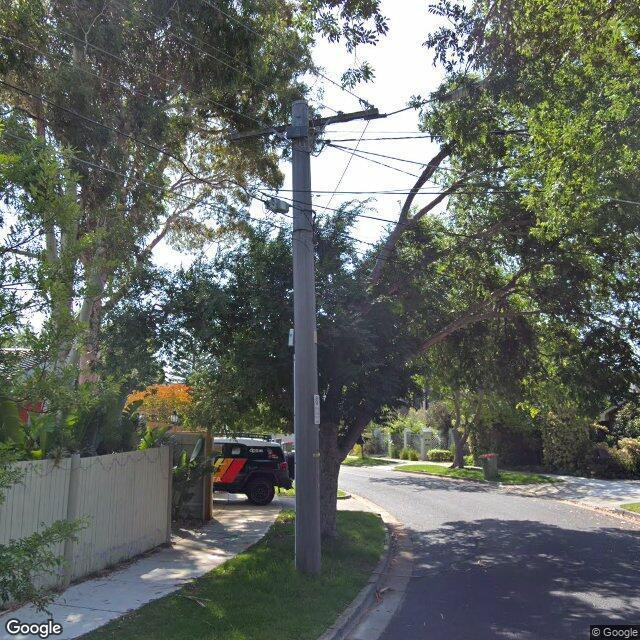concrete-pole: (292, 100, 322, 574)
crossarm: (231, 108, 378, 141)
streetlight: (378, 87, 471, 118)
